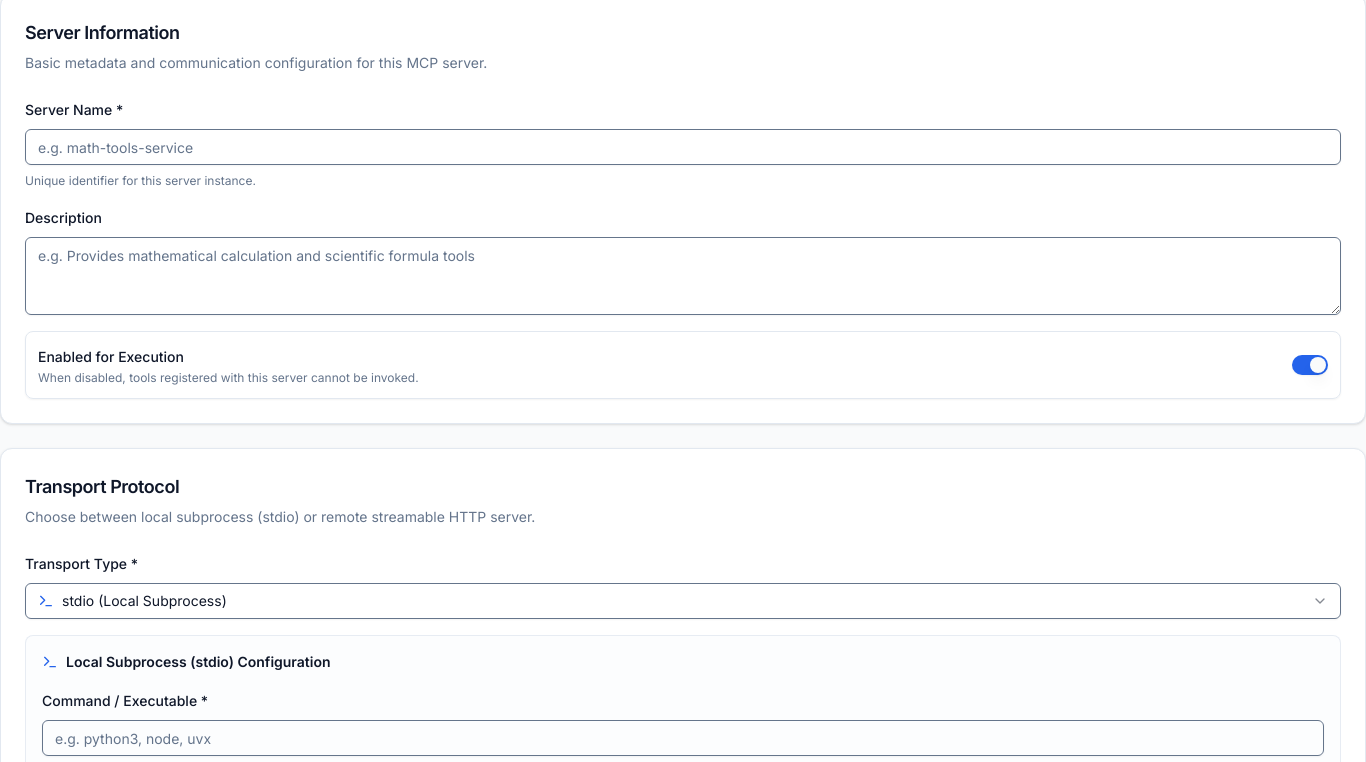
Test: ServerForm Component › backend refusals › marks the command field when stdio servers are disabled on the hub
This screenshot has width=1366, height=762.
Type "math-server" into the field labelled "Server Name *" at (683, 147), box [25,129,1341,165]
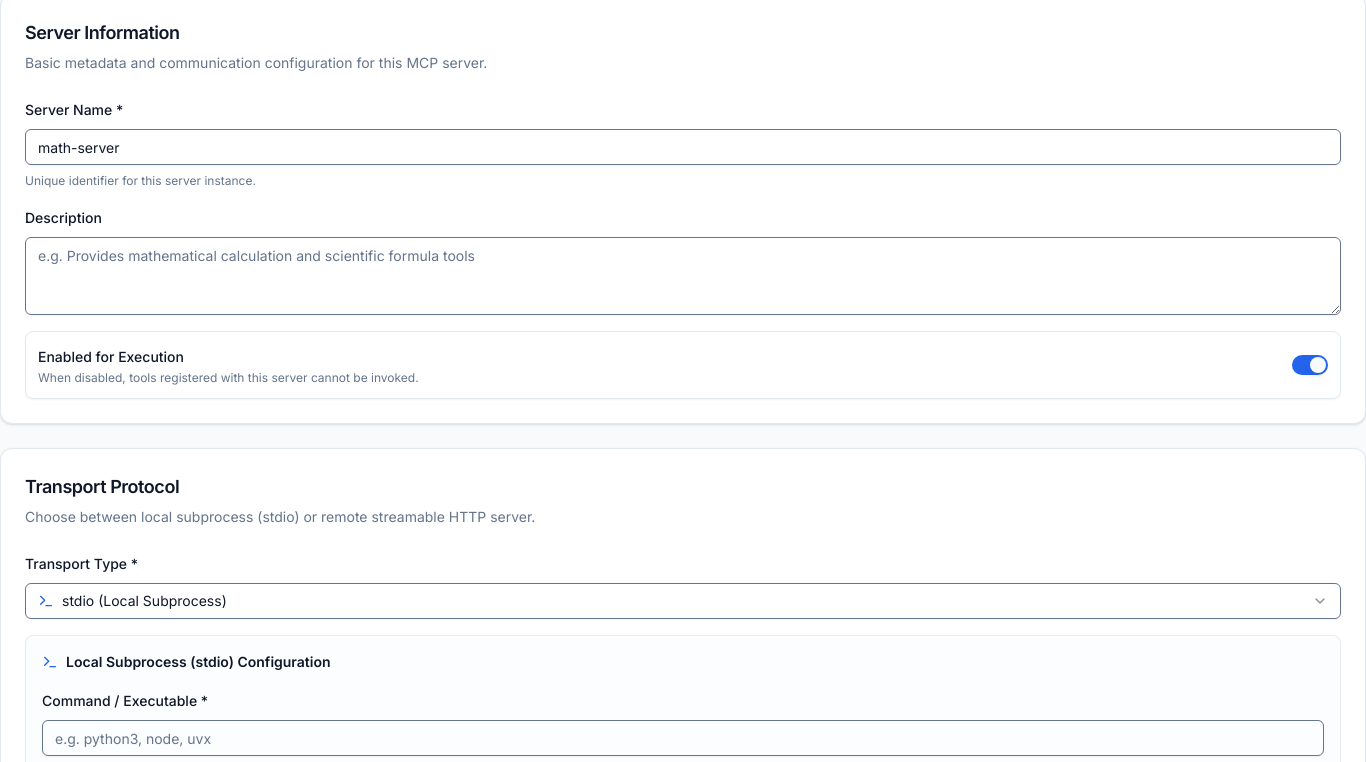
Type "python3" into the field labelled "Command / Executable *" at (683, 738), box [42,720,1324,756]
(page scrolled)
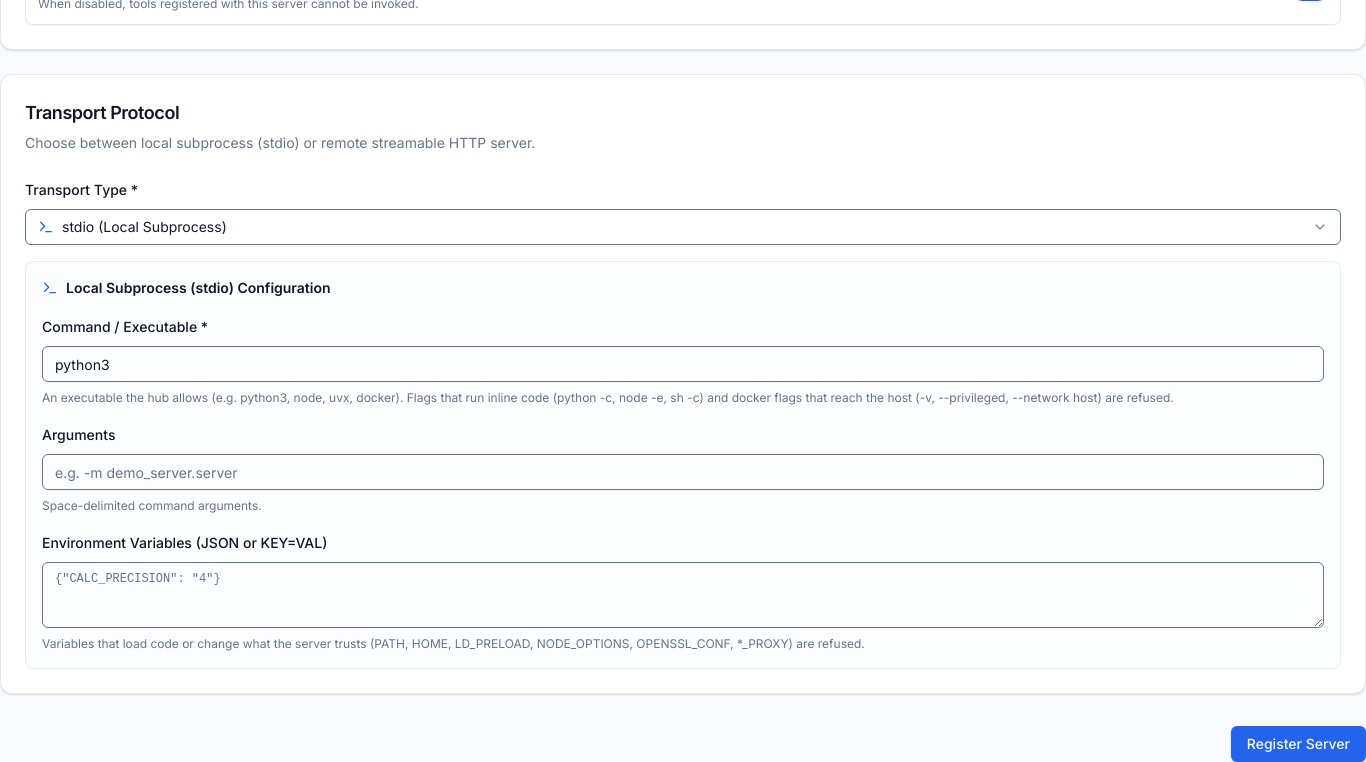
Click the button "Register Server" at (1298, 744), box [1231,726,1365,761]
(page scrolled)
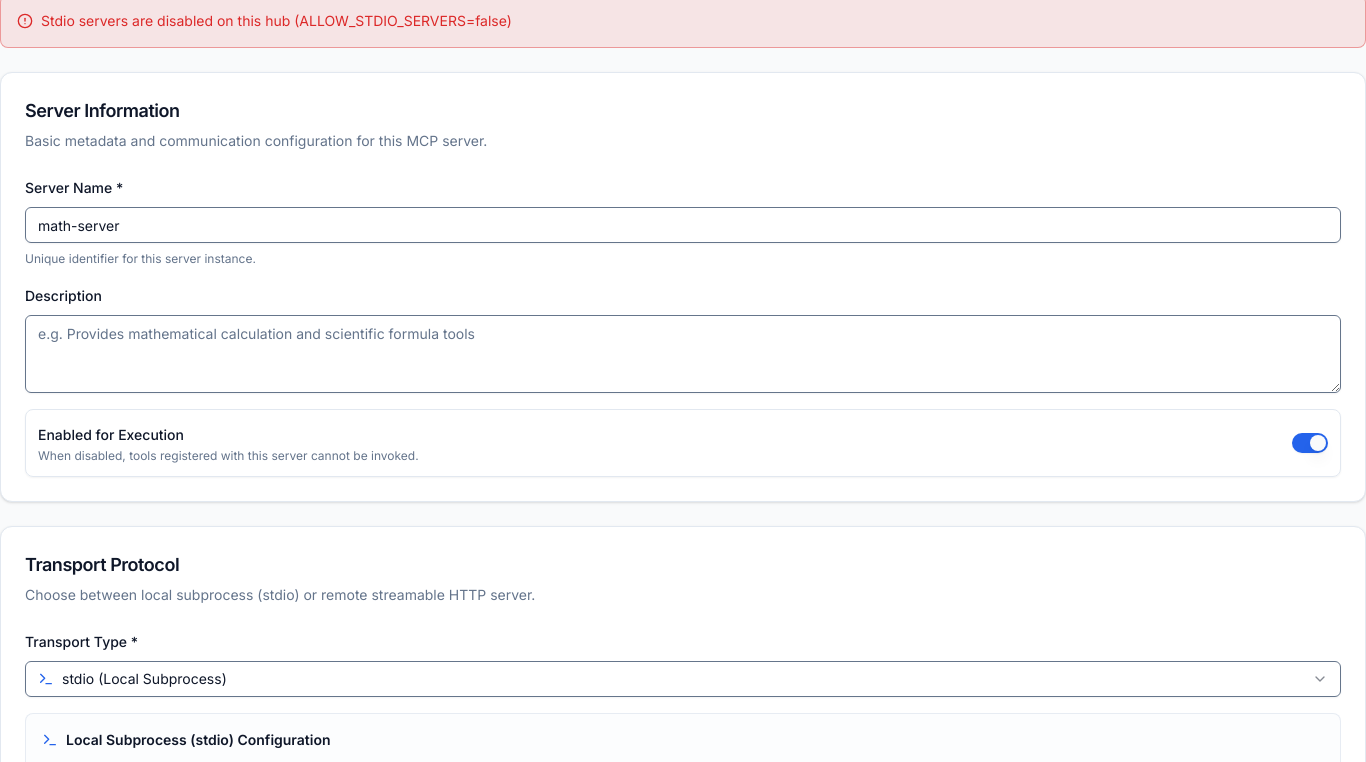
Now the text "Stdio servers are disabled on this hub (ALLOW_STDIO_SERVERS=false)" is shown, box [41,11,512,31]
